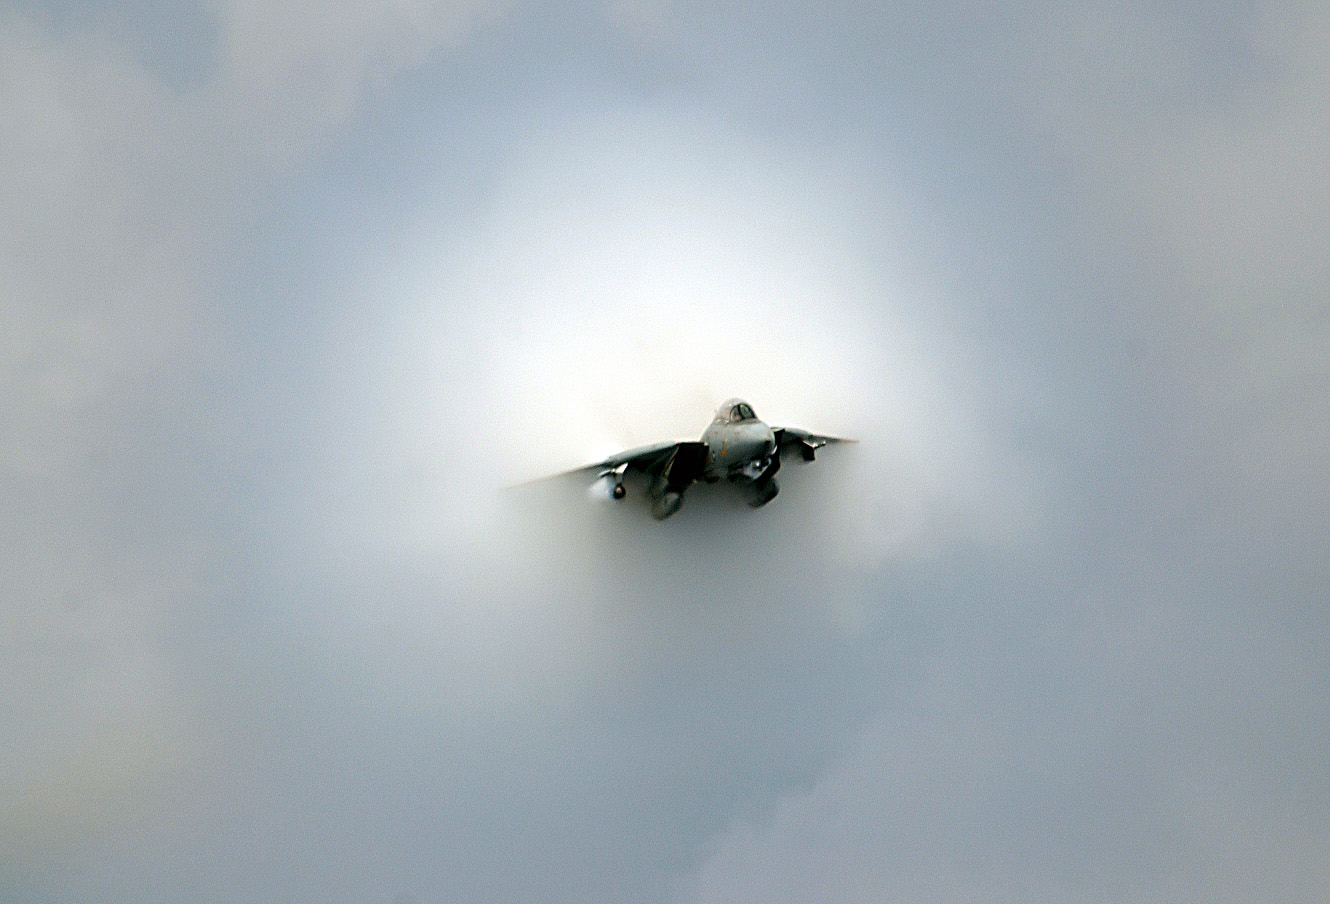F14: (494, 393, 862, 524)
